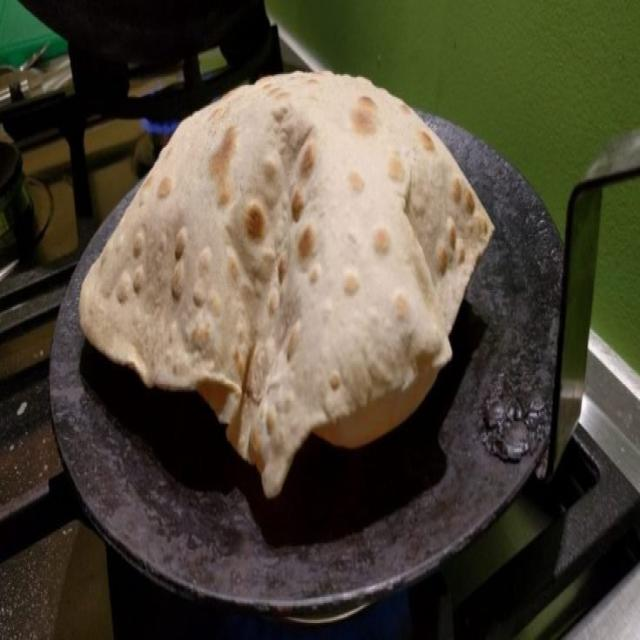CHAPATHI: (81, 73, 497, 499)
